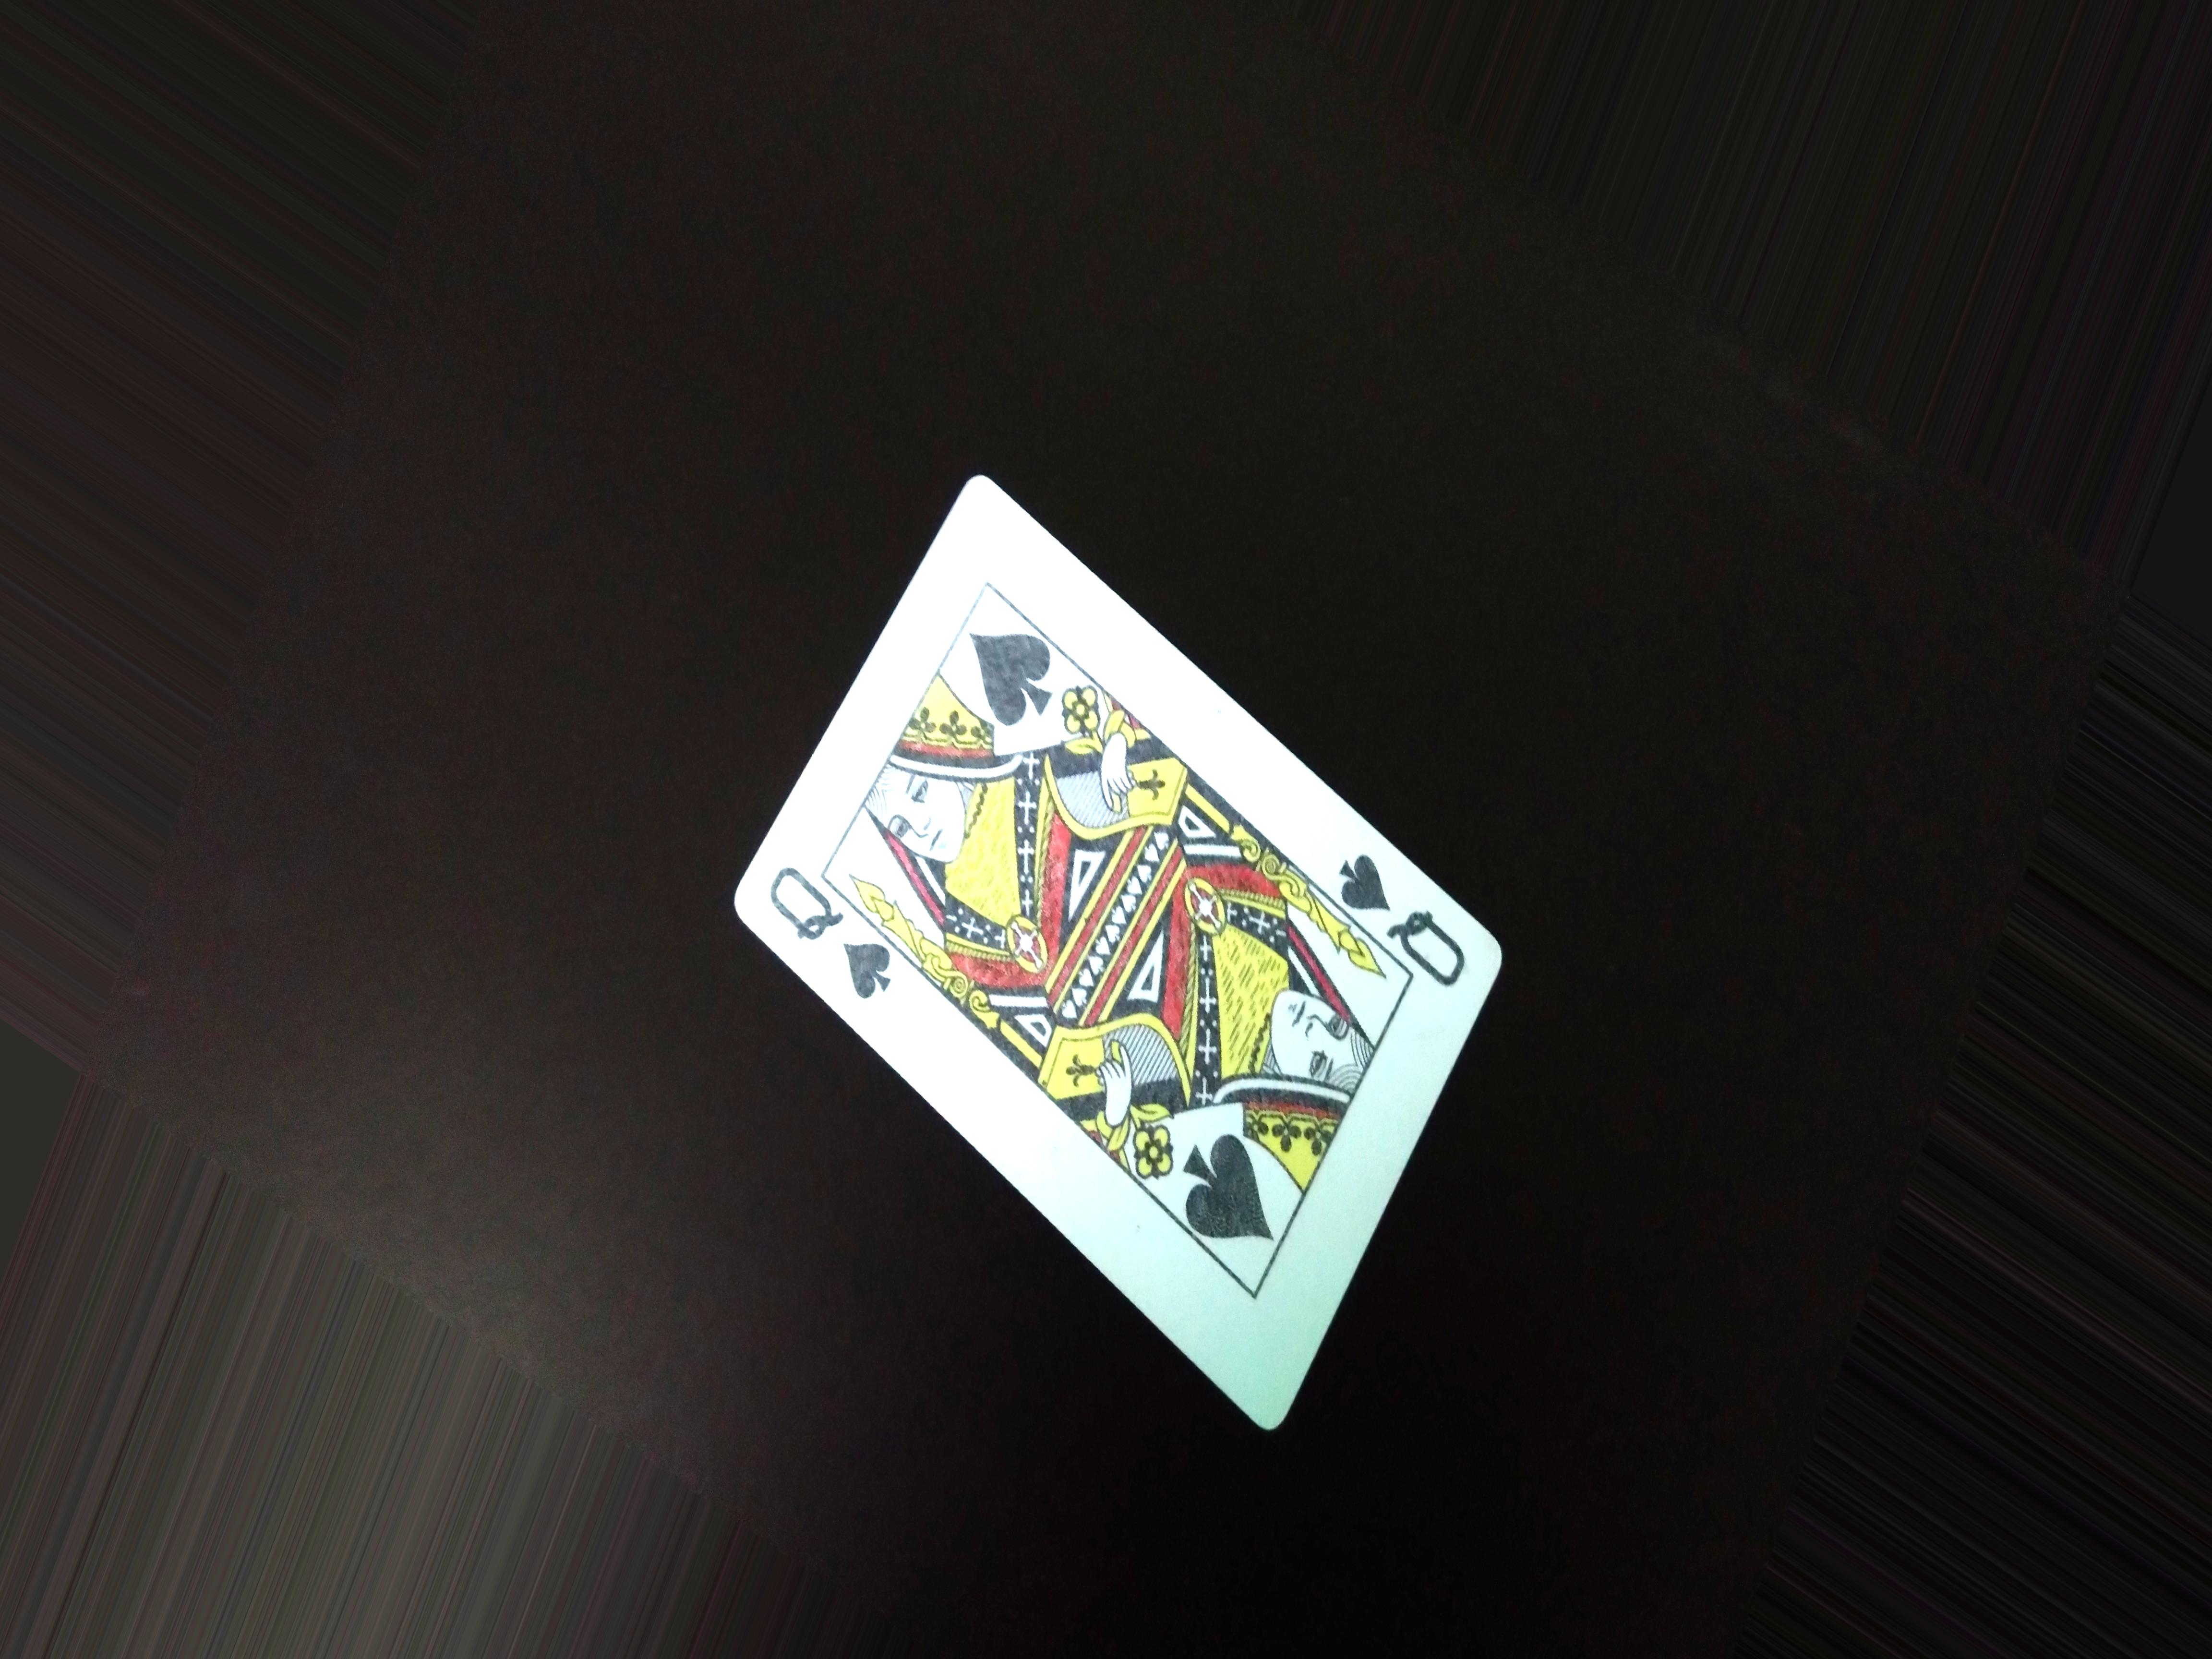QS: (766, 854, 902, 1009)
